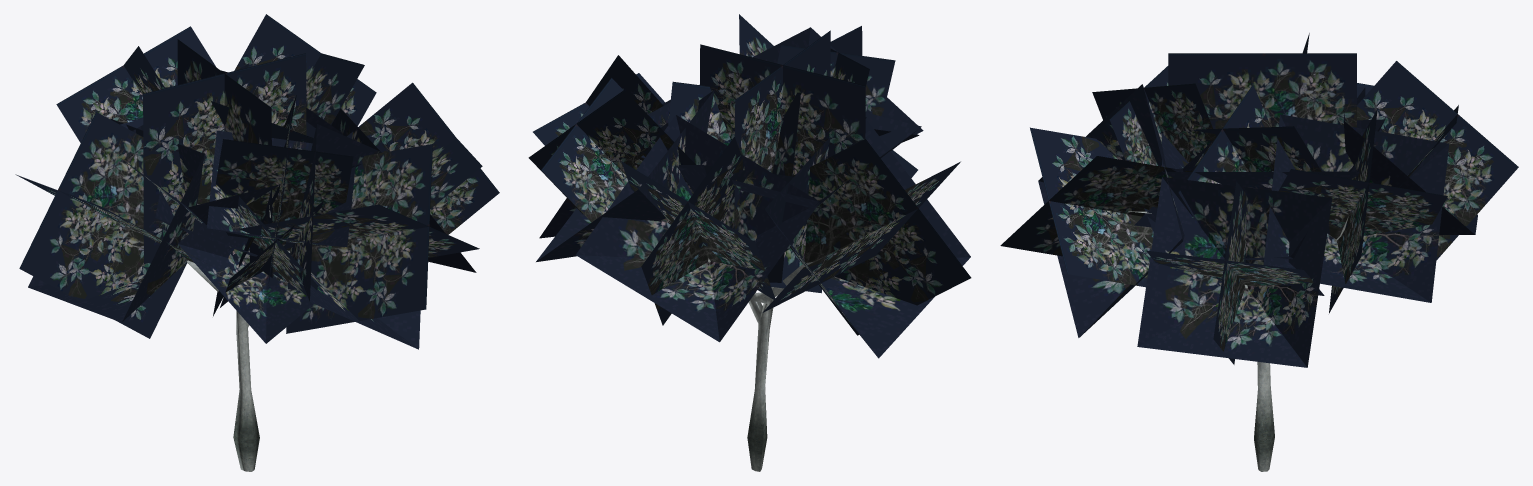
Rendered from decd_tallbirch_l0.fbx.
3 renders of one model, left to right at view 1: azimuth 30°, elevation 25°; view 2: azimuth 150°, elevation 25°; view 3: azimuth 270°, elevation 25°, orthographic.
Parts seen in each view (by area): view 1: mesh_node; view 2: mesh_node; view 3: mesh_node.
Boxes of the visible parts, left/top/right/bottom form: mesh_node: left=15, top=14, right=499, bottom=471; mesh_node: left=528, top=14, right=971, bottom=471; mesh_node: left=1000, top=33, right=1518, bottom=471.
Bounding box in the file's own units: 68.28 × 59.02 × 68.57.
